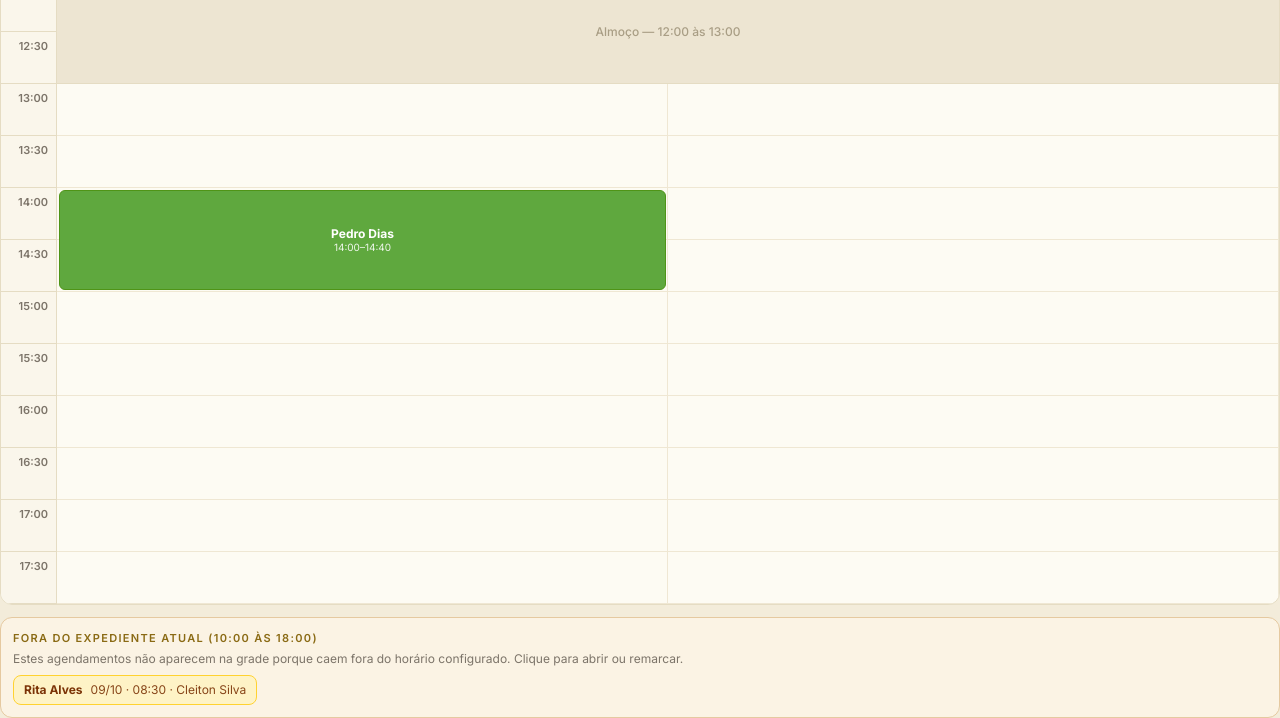
Test case: Agenda — agendamentos fora do expediente › clicar no item fora da grade abre o detalhe do agendamento
(page scrolled)
Click the text "Rita Alves": (53, 689) [24, 682, 83, 696]
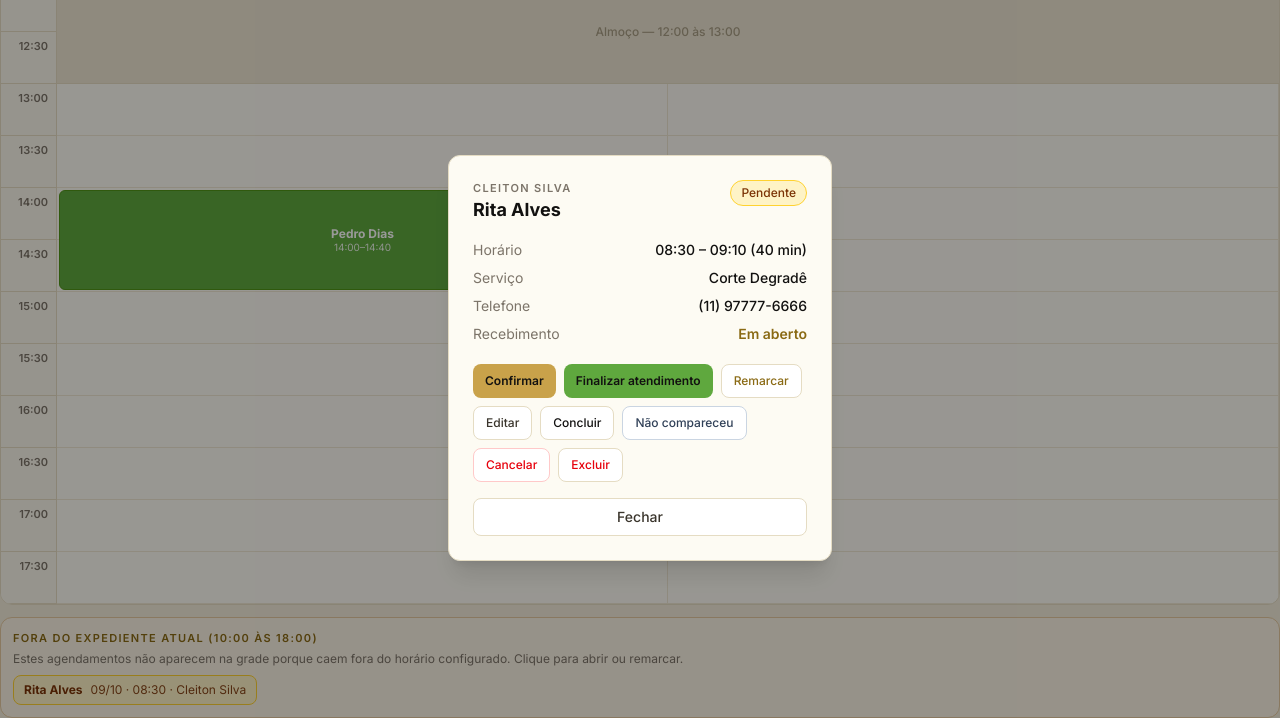
Expected: the text "Rita Alves" is shown 2 times, [24, 682, 83, 696]; [473, 196, 572, 224]
Expected: the text "Horário" is shown, [473, 240, 522, 260]
